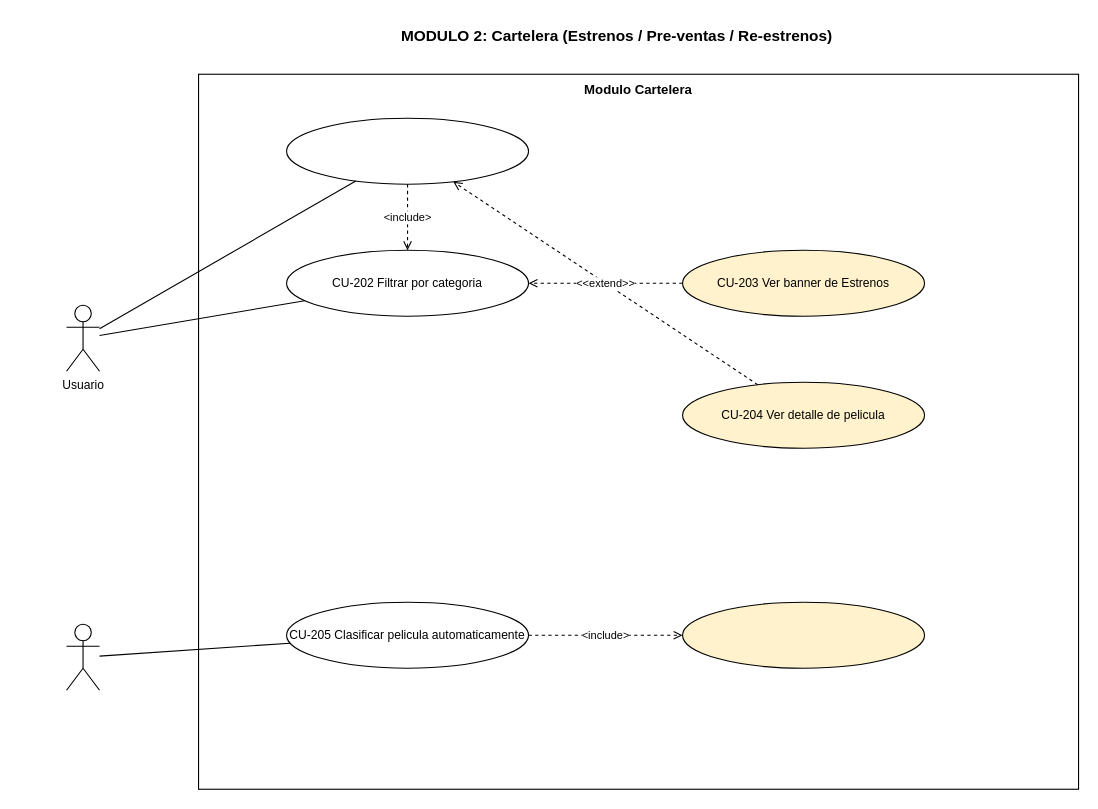
This 1098x809 diagram has some shape labels left out. Each missing label, with the box of its shape:
Administrador / Sistema: (65, 623, 100, 690)
CU-201 Ver cartelera completa: (285, 117, 529, 184)
CU-206 Aplicar reglas de categorizacion: (681, 601, 925, 668)
